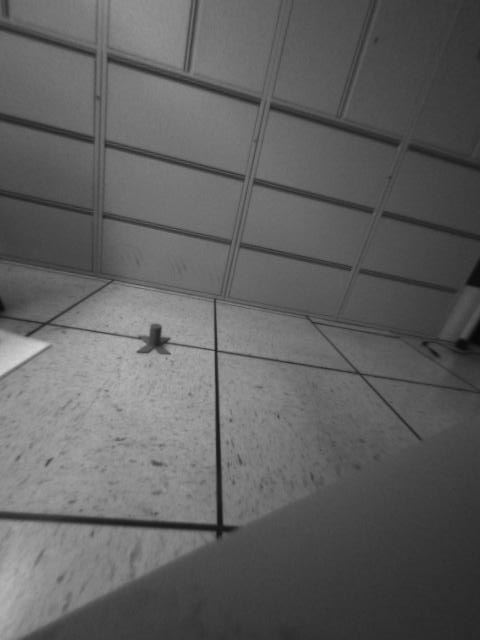X: (135, 322, 173, 355)
